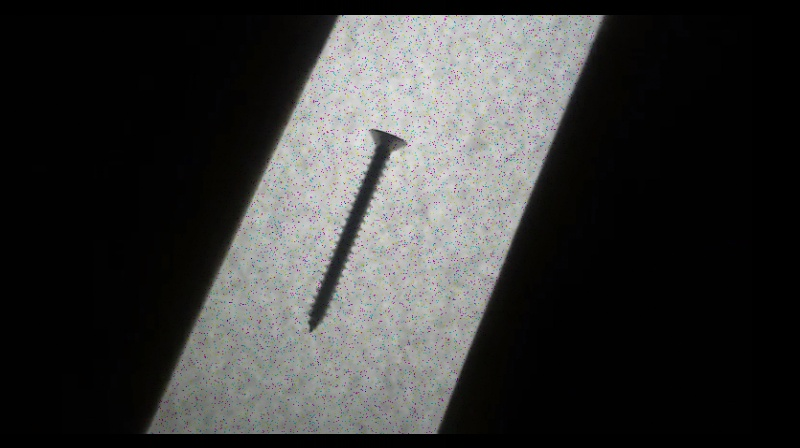S002: (304, 126, 411, 335)
